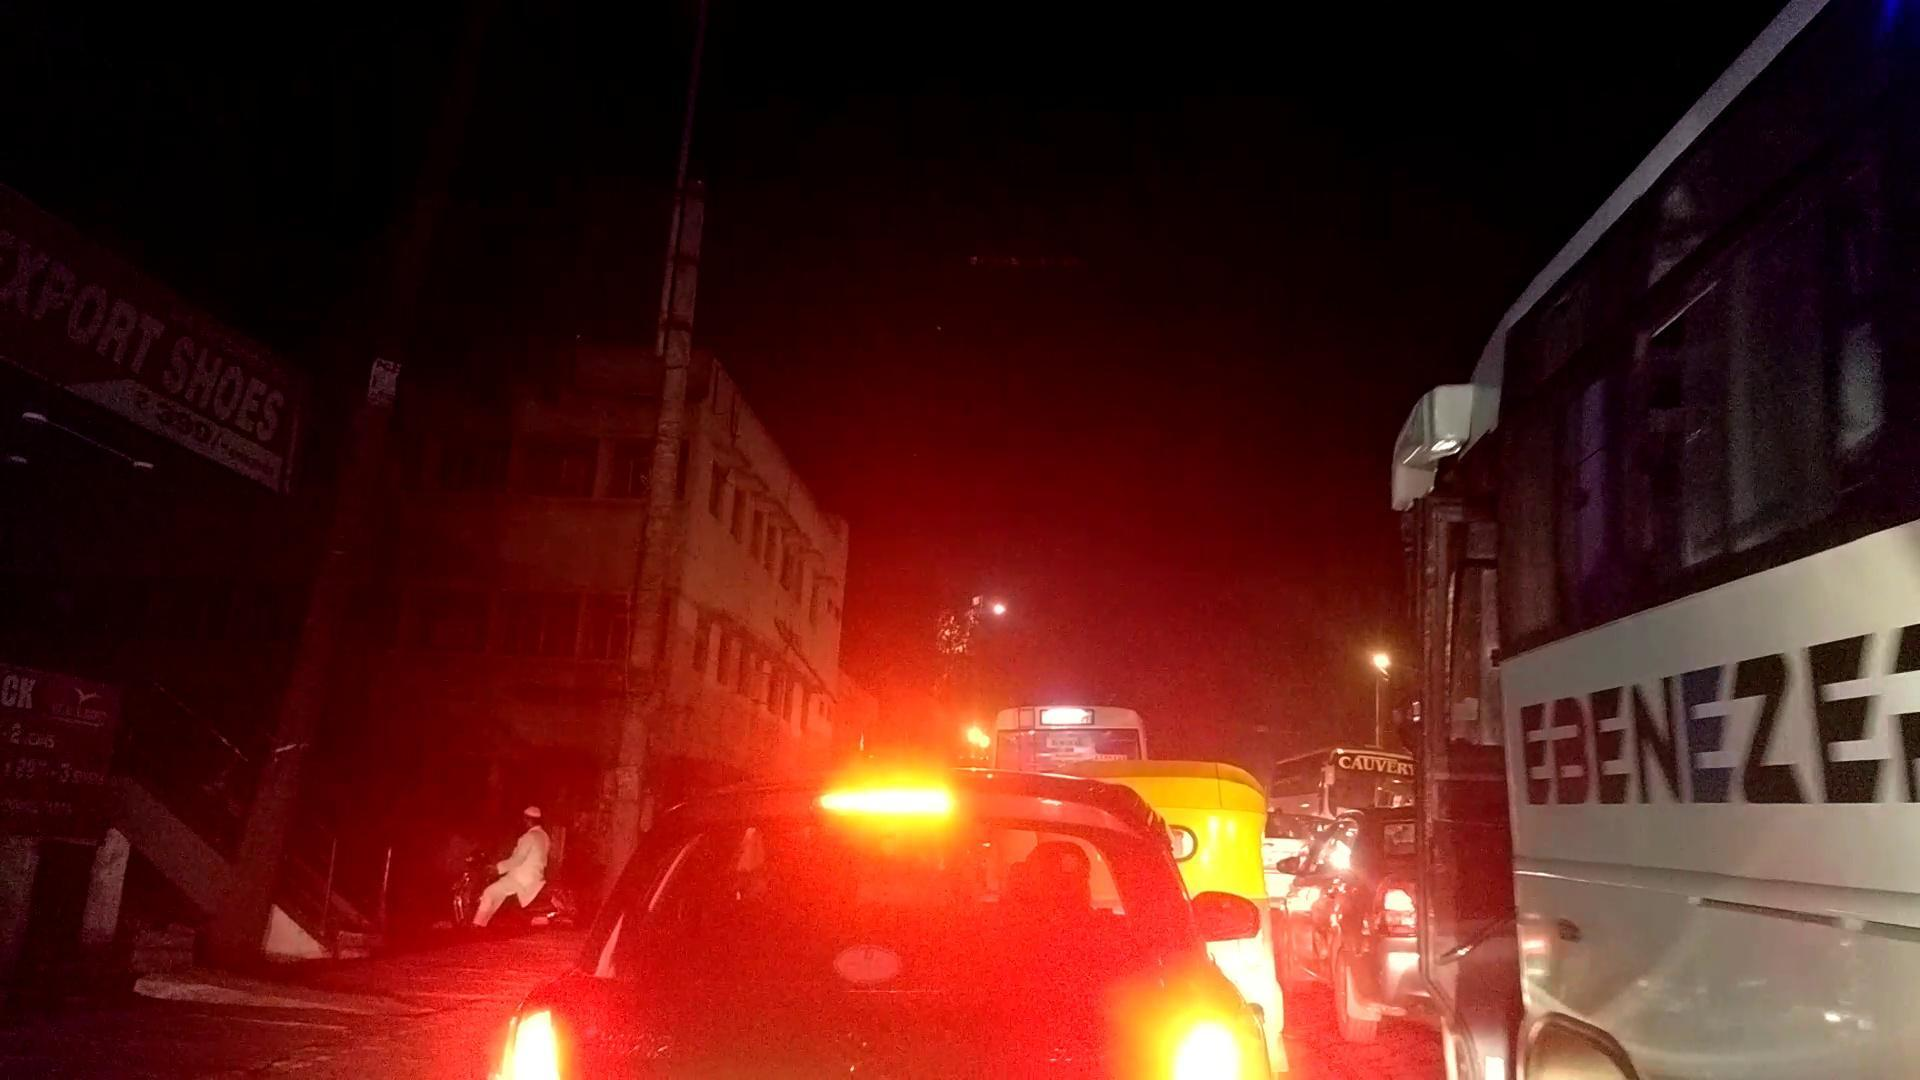on: (1050, 433, 1462, 1043)
